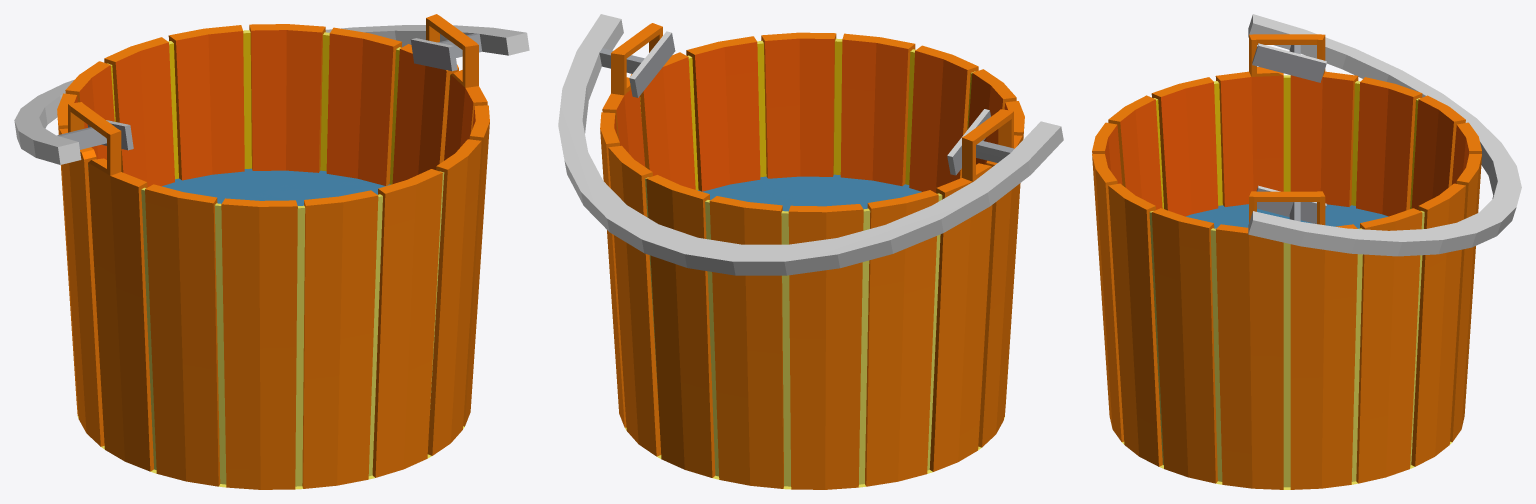
File: Bucket.fbx
3 renders of one model, left to right at view 1: azimuth 30°, elevation 25°; view 2: azimuth 150°, elevation 25°; view 3: azimuth 270°, elevation 25°, orthographic. The views are drawn at different scales.
Parts seen in each view (by area): view 1: body, handle, water; view 2: body, handle, water; view 3: body, handle, water.
Boxes of the visible parts, x1=… form: body: x1=57, y1=14, x2=489, y2=489; handle: x1=14, y1=25, x2=529, y2=164; water: x1=162, y1=168, x2=390, y2=205; body: x1=600, y1=23, x2=1024, y2=489; handle: x1=558, y1=14, x2=1063, y2=275; water: x1=698, y1=174, x2=921, y2=211; body: x1=1092, y1=34, x2=1481, y2=489; handle: x1=1248, y1=14, x2=1521, y2=256; water: x1=1186, y1=204, x2=1388, y2=228.
Size of the model in its own units: 0.402 by 0.2721 by 0.3541.
Materials: 1 (1 with a texture image).
